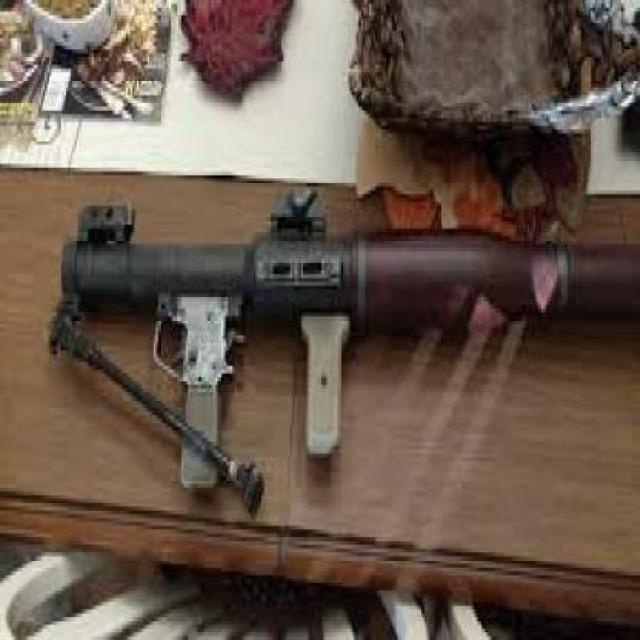weapon: (28, 177, 632, 516)
